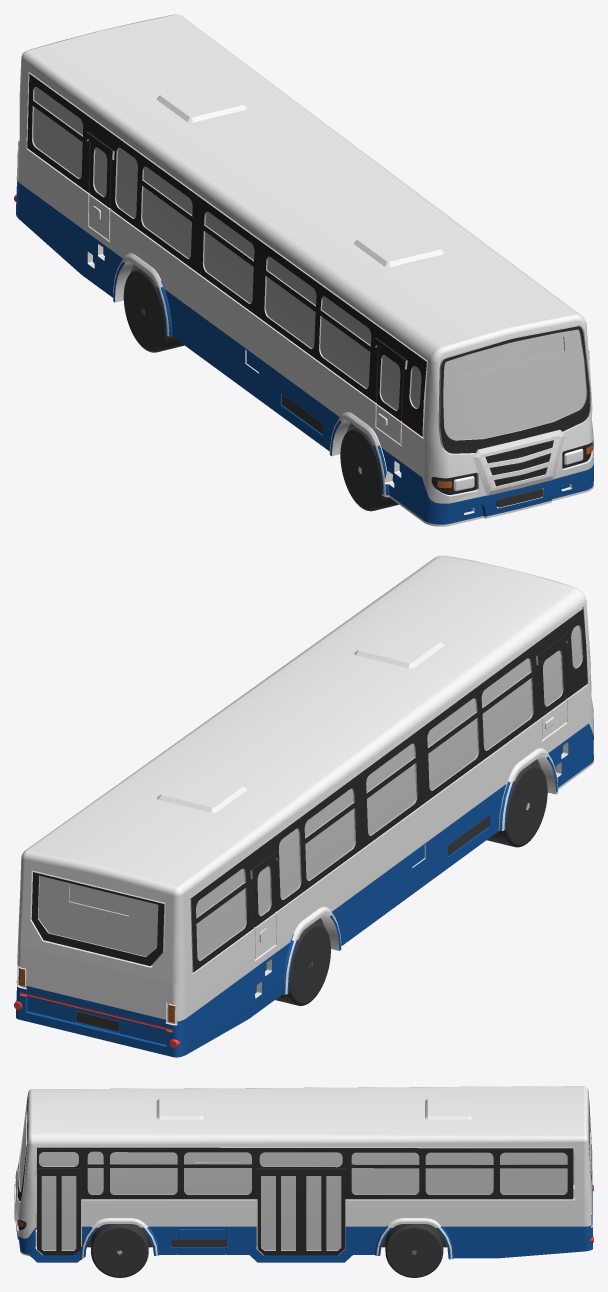
Rendered from bus.glb.
3 renders of one model, top to bottom at view 1: azimuth 30°, elevation 25°; view 2: azimuth 150°, elevation 25°; view 3: azimuth 270°, elevation 25°, orthographic. The views are drawn at different scales.
Visible parts, largest first — view 1: MAIN BODY-V2, SIDE R-V2, FRONT-V2, TYRE REF003, TYRE REF002, CHASSIS-V2; view 2: MAIN BODY-V2, SIDE R-V2, BACK-V2, TYRE REF002, TYRE REF003, CHASSIS-V2; view 3: MAIN BODY-V2, SIDE L-V2, TYRE REF001, TYRE REF, FRONT-V2, CHASSIS-V2.
Boxes of the visible parts, left/top/right/bottom form: MAIN BODY-V2: left=14, top=14, right=593, bottom=526; SIDE R-V2: left=27, top=73, right=427, bottom=436; FRONT-V2: left=438, top=325, right=589, bottom=453; TYRE REF003: left=123, top=269, right=184, bottom=352; TYRE REF002: left=340, top=427, right=398, bottom=511; CHASSIS-V2: left=130, top=264, right=543, bottom=507; MAIN BODY-V2: left=14, top=555, right=593, bottom=1057; SIDE R-V2: left=190, top=608, right=587, bottom=972; BACK-V2: left=31, top=871, right=165, bottom=966; TYRE REF002: left=487, top=763, right=547, bottom=847; TYRE REF003: left=275, top=922, right=330, bottom=1005; CHASSIS-V2: left=76, top=759, right=540, bottom=1031; MAIN BODY-V2: left=14, top=1086, right=593, bottom=1262; SIDE L-V2: left=35, top=1146, right=574, bottom=1255; TYRE REF001: left=385, top=1224, right=443, bottom=1277; TYRE REF: left=91, top=1224, right=148, bottom=1277; FRONT-V2: left=17, top=1096, right=36, bottom=1201; CHASSIS-V2: left=16, top=1226, right=447, bottom=1247.
Size of the model in its own units: 0.026 by 0.0302 by 0.1103.
